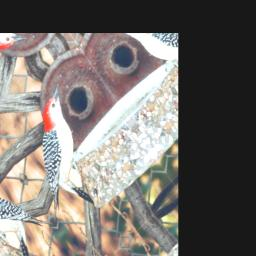Woodpecker: (0, 81, 126, 237)
